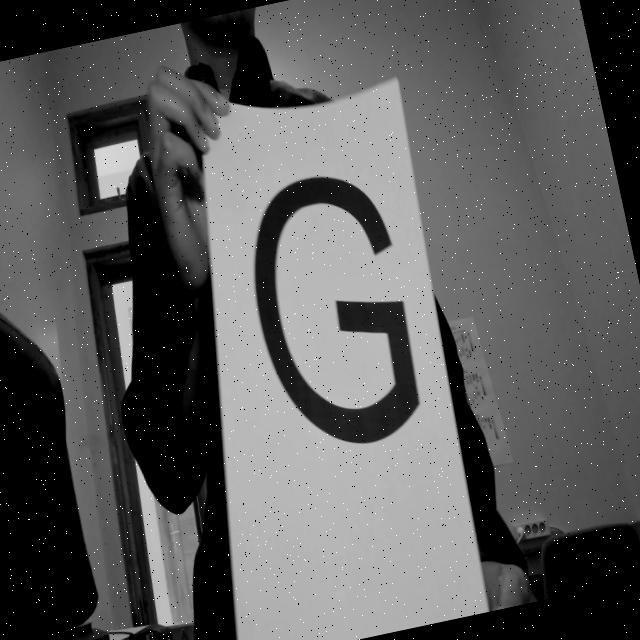g: (224, 150, 458, 478)
